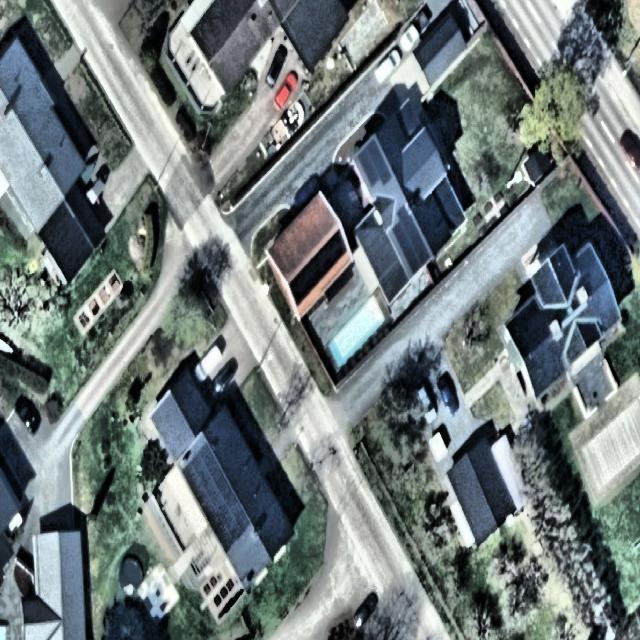roof_pv: (183, 442, 248, 550), (288, 227, 347, 306), (392, 202, 430, 276), (356, 135, 394, 190)
